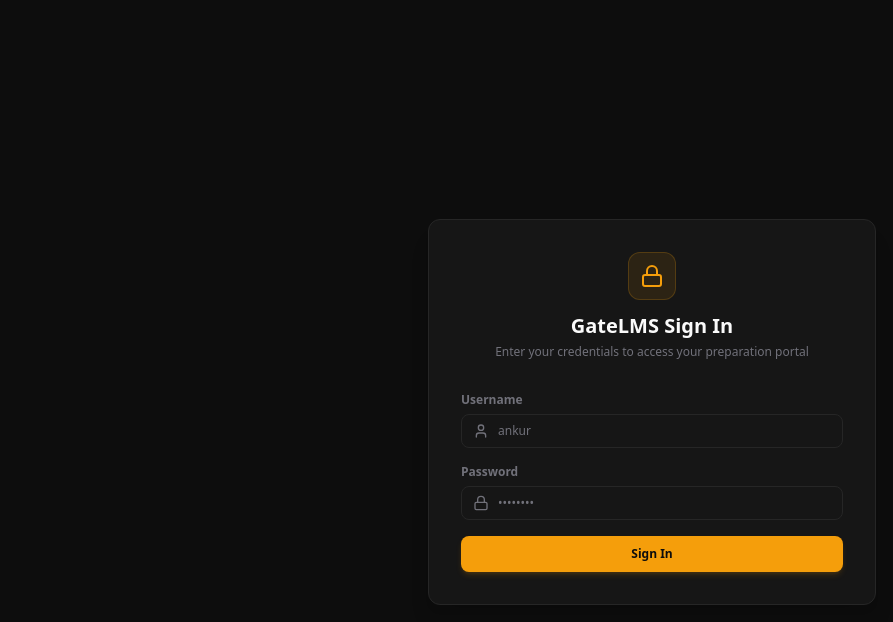
LoginPage Component › 3 navigates to next path if specified in search query
Type "student" into the field with test id "login-username-input" at (652,431), box 461,414 -> 843,448
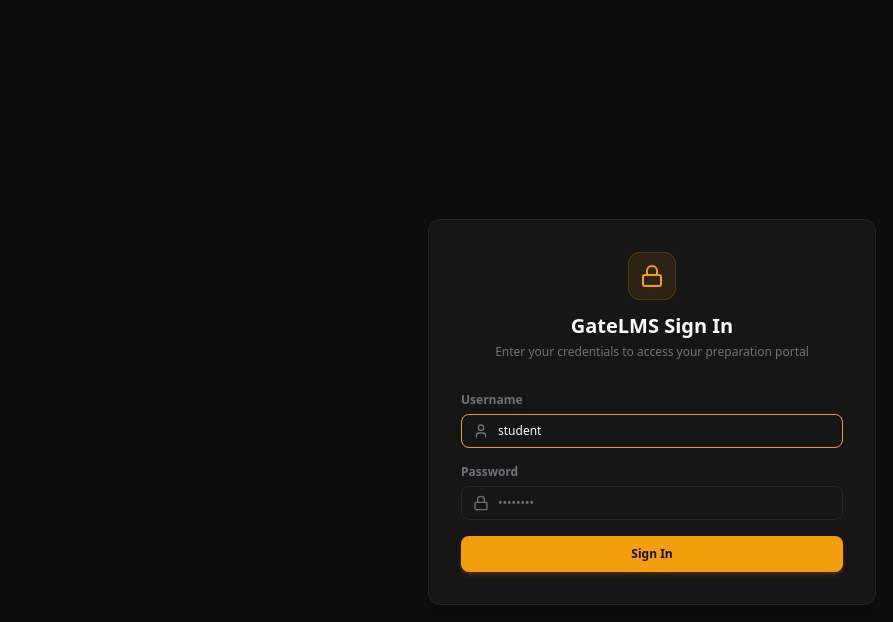
Type "pass123" into the password field with test id "login-password-input" at (652,503), box 461,486 -> 843,520
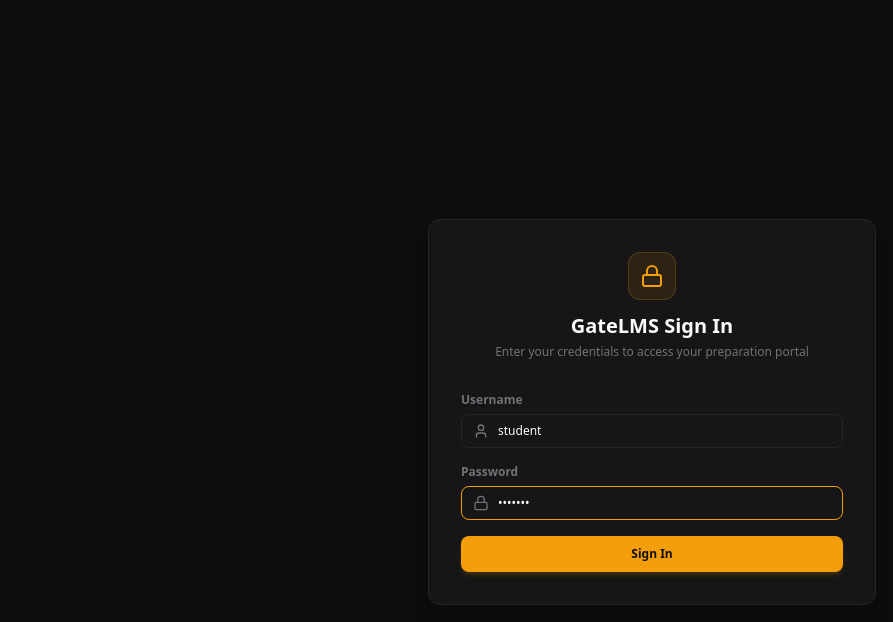
Click the button with test id "login-submit-button" at (652,554), box 461,536 -> 843,572
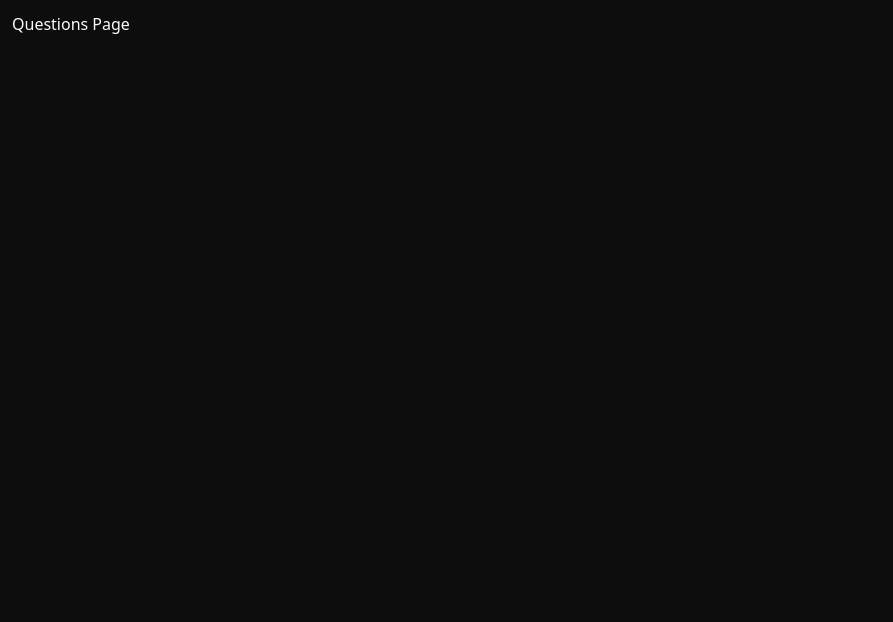
Result: the text "Questions Page" is shown at 12,13 -> 130,35
